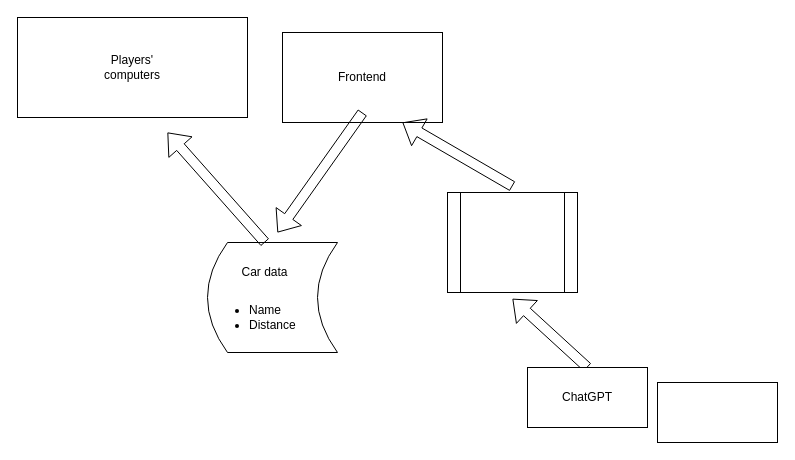
Image size: 795x460. Some labels were removed from this diagram. Here are the shapes that lost their labels. From the top down, the centre of each, then its label:
(x=512, y=242): Request sentence from ChatGPT
(x=717, y=412): Key is hidden in txt file
